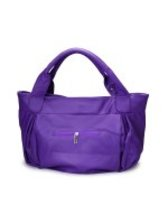bag: (10, 48, 156, 177)
